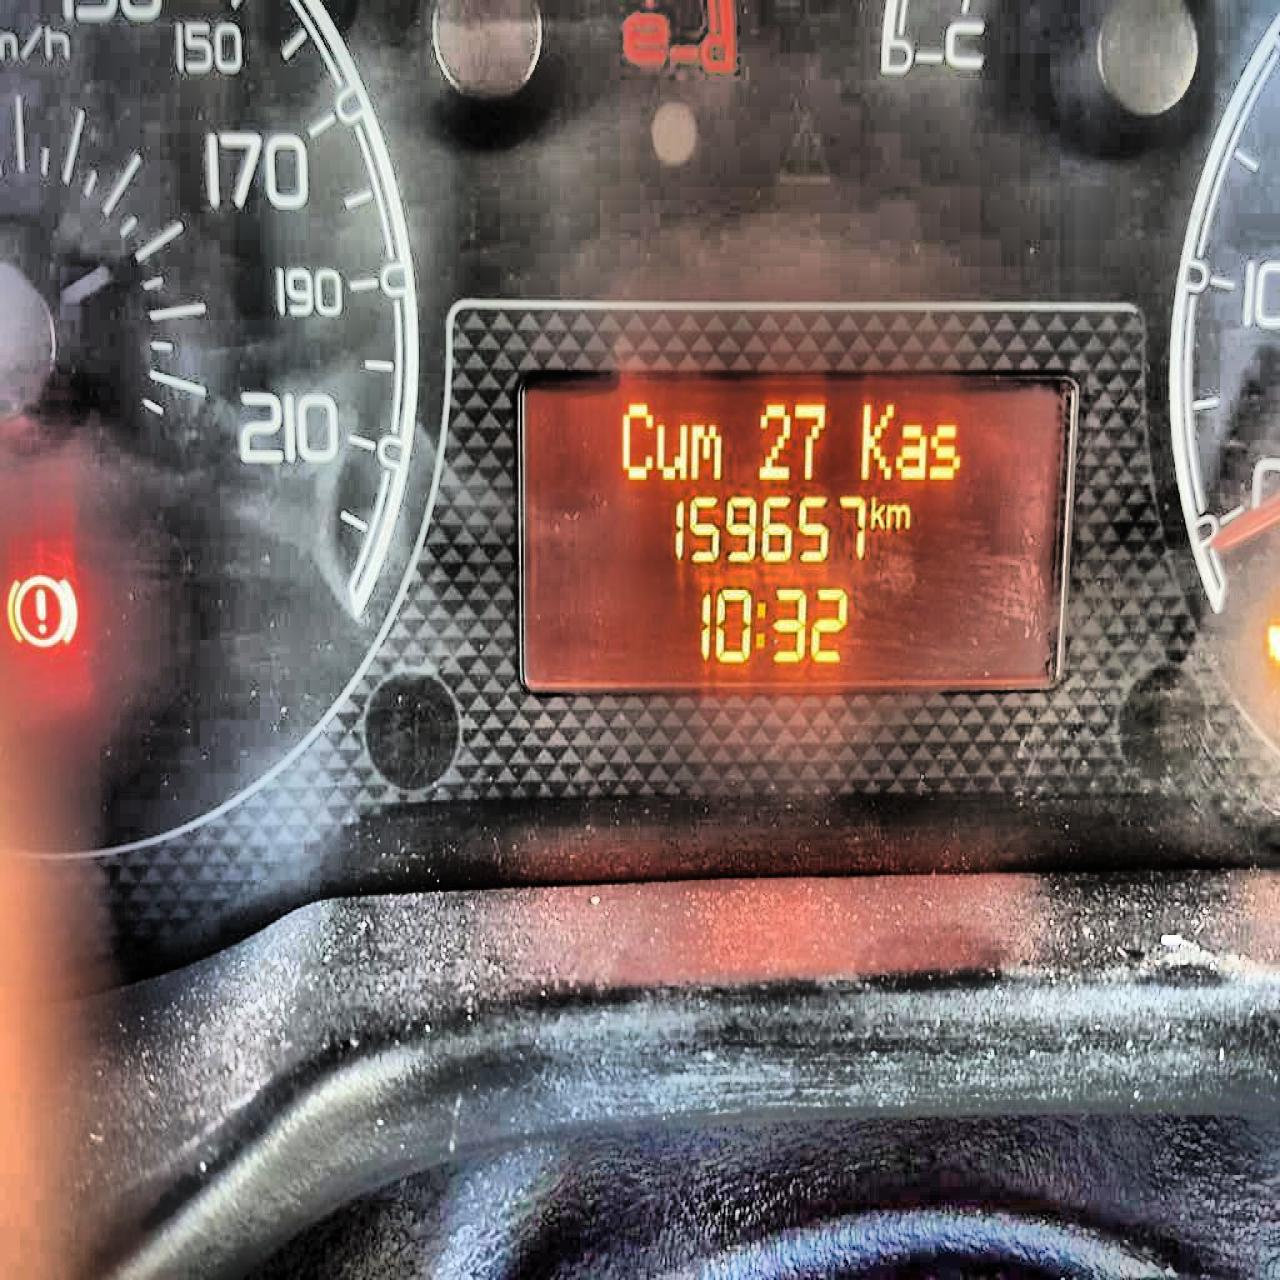0: (714, 587, 751, 663)
1: (697, 590, 712, 660), (673, 498, 683, 560)
2: (808, 585, 847, 663), (756, 402, 790, 481)
3: (770, 588, 806, 662)
5: (796, 493, 829, 561), (688, 493, 720, 561)
6: (760, 493, 792, 561)
7: (794, 402, 825, 481), (837, 493, 865, 560)
9: (722, 496, 756, 561)
X: (619, 402, 653, 481), (859, 400, 891, 481), (927, 422, 960, 481), (893, 423, 927, 479), (688, 423, 722, 479), (655, 422, 687, 481), (753, 599, 767, 648), (884, 504, 910, 529), (869, 493, 884, 530)
odometer: (515, 368, 1080, 692)
